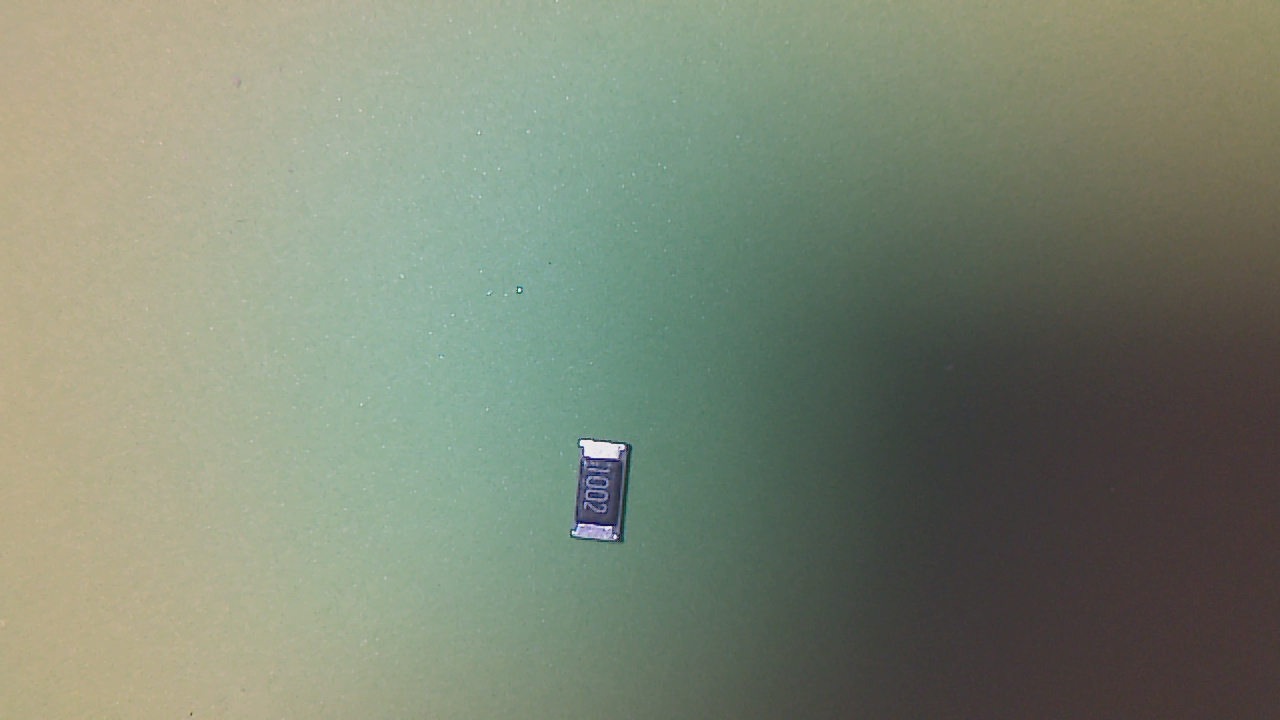Resistor: (572, 440, 642, 553)
